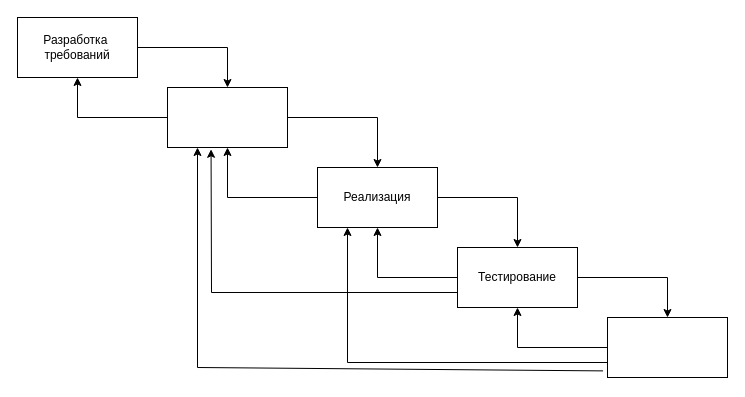
The diagram is 745 pixels wide and 397 high, and some of its shapes have lost their labels. Here are the shapes that lost their labels. From the top down, the box of each, then its label:
(166, 86, 288, 148): Проектирование
(606, 316, 728, 378): Эксплуатация и поддержка
